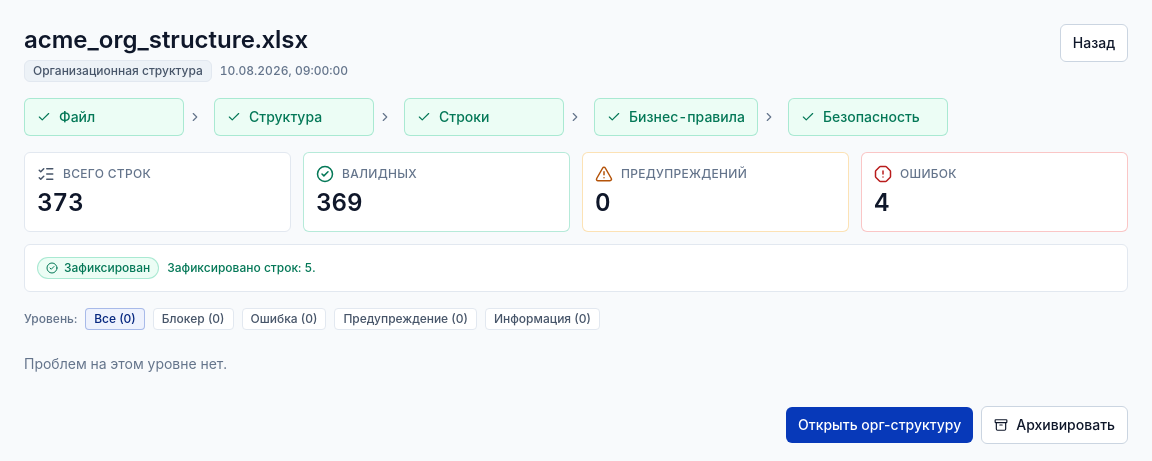
Test: ImportDetailsPage › archiving navigates back to the imports list and shows a success flash
Click the button with test id "import-details-archive": (1055, 425) [981,406,1128,444]
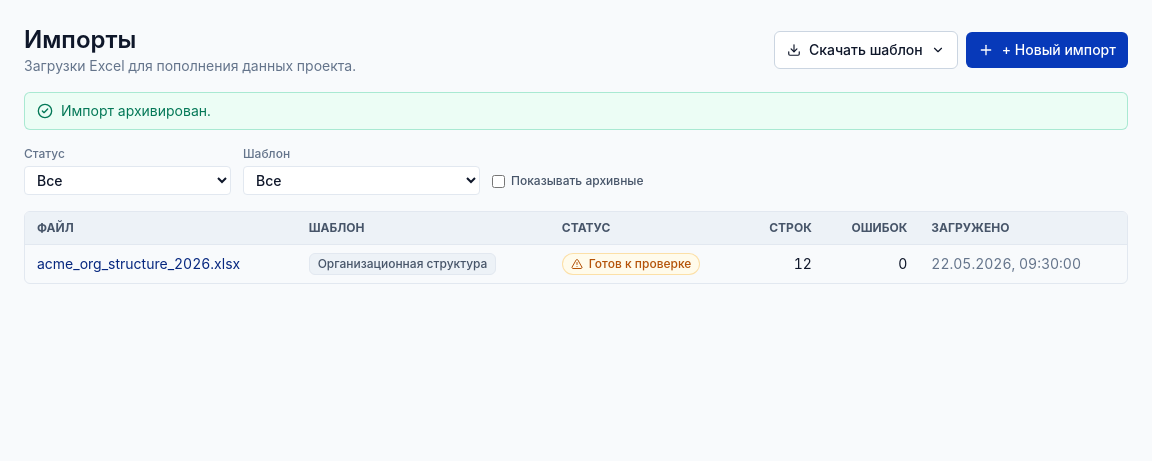
Expected: the element with test id "import-list-page" is shown
